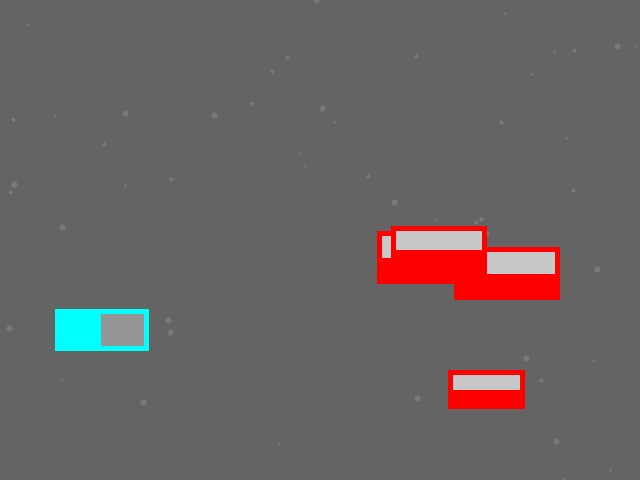car: (454, 247, 559, 299), (377, 231, 482, 283), (391, 226, 486, 273), (448, 370, 524, 408)
truck: (55, 309, 148, 350)
